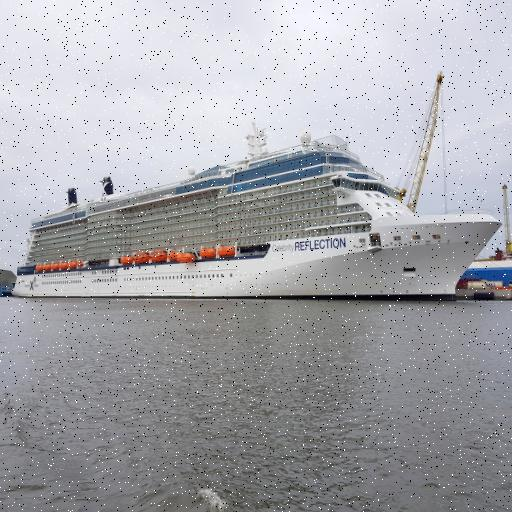cruises: (10, 123, 507, 307)
